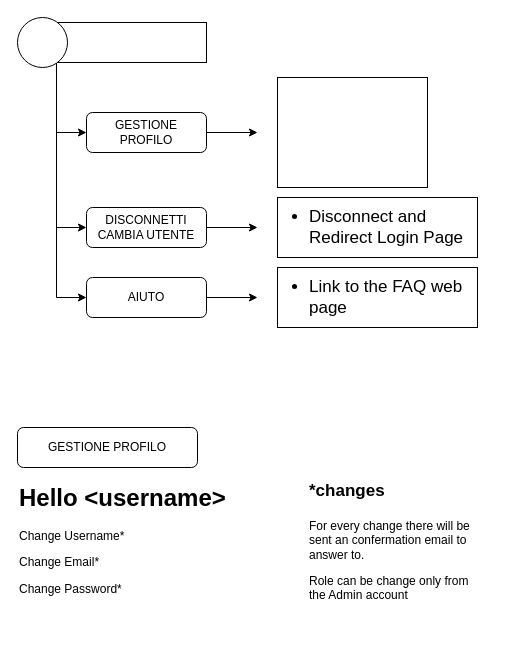
This 505x648 diagram has some shape labels left out. The shapes that lost their labels are listed below. From the top down, each one's centre as x and y in pixels, then its label:
the point at 42,42: FOTO
the point at 131,42: PROFILE MENU
the point at 352,132: Username Password Email Role
